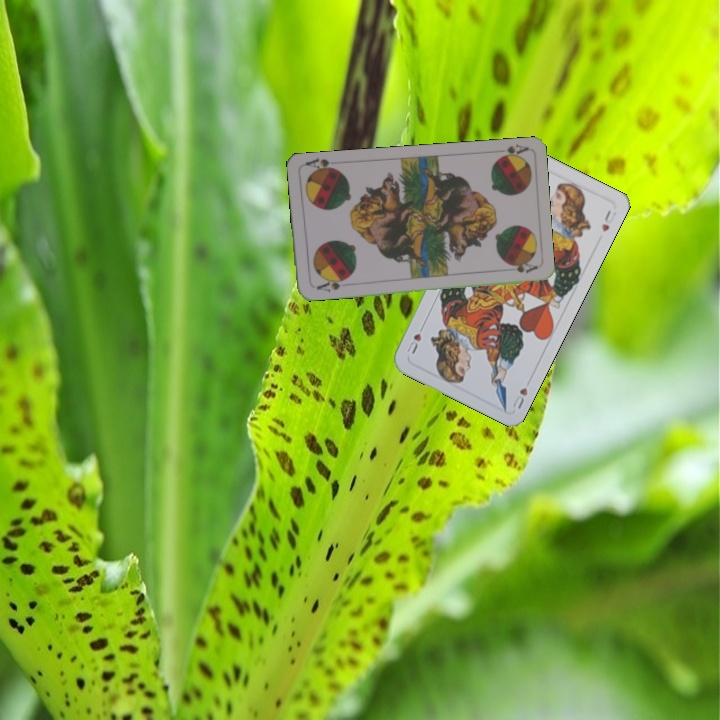HU: (508, 384, 530, 412)
SA: (493, 141, 530, 162), (313, 274, 350, 294)
